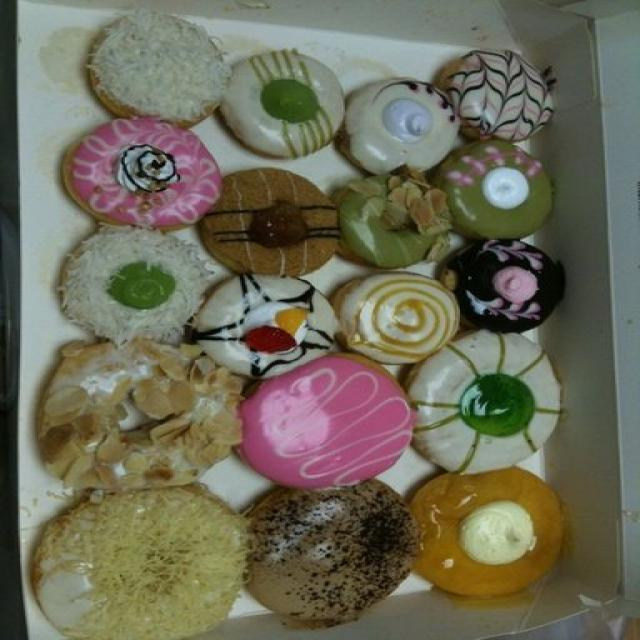Donuts: (33, 7, 579, 640)
